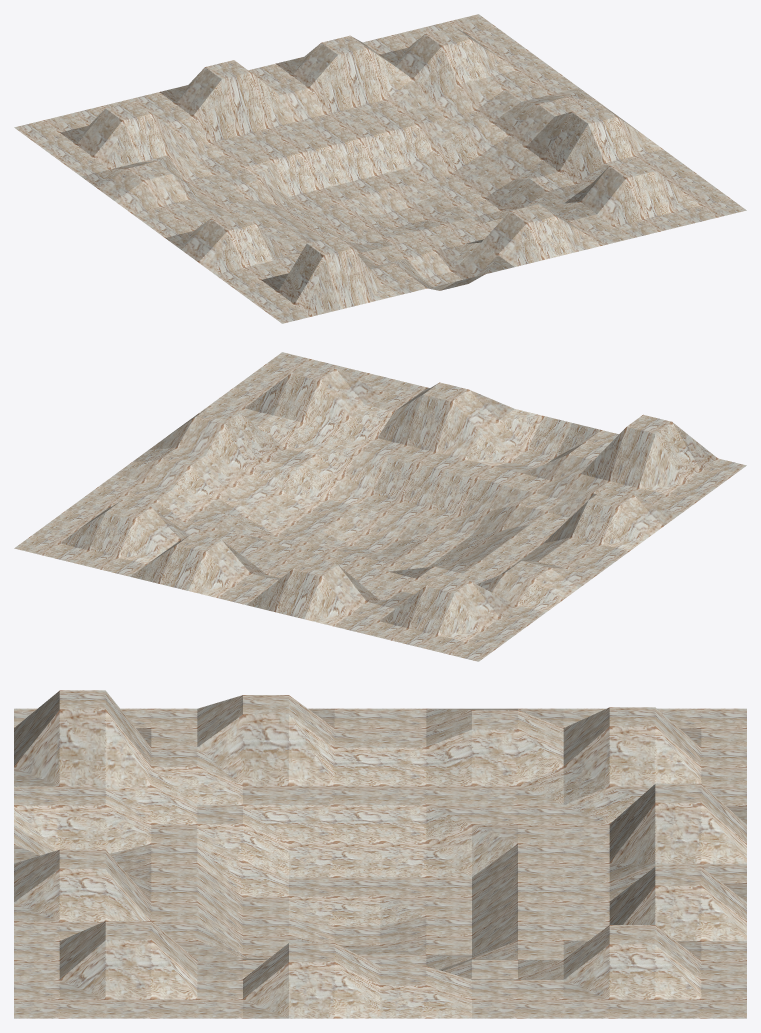
The model's file is courser5a.obj.
3 views of the same model, one above another, from view 1: azimuth 30°, elevation 25°; view 2: azimuth 150°, elevation 25°; view 3: azimuth 270°, elevation 25° (orthographic). The views are drawn at different scales.
Parts seen in each view (by area): view 1: Plane; view 2: Plane; view 3: Plane.
Part boxes in pixels (x1,y1,x2,y2): Plane: (14, 14, 746, 323); Plane: (14, 352, 746, 661); Plane: (14, 690, 746, 1018).
Size of the model in its own units: 40 by 7.2 by 40.
Materials: 1 (1 with a texture image).
